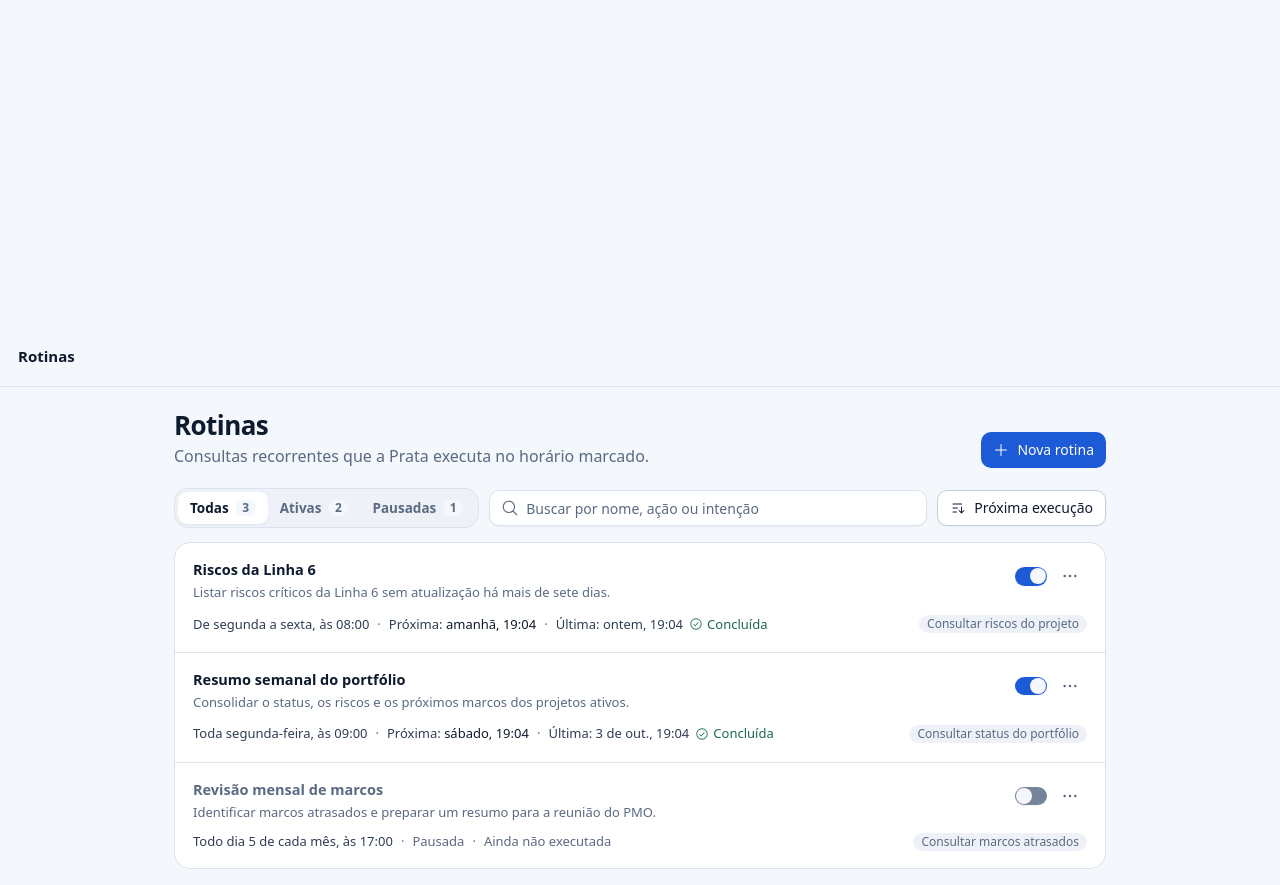
Scenario: Página de rotinas › valida e cria uma rotina
(page scrolled)
Expected: the heading "Riscos da Linha 6" is shown, [193,559,316,579]
Click the button "Nova rotina": (1044, 450) [981,432,1106,468]
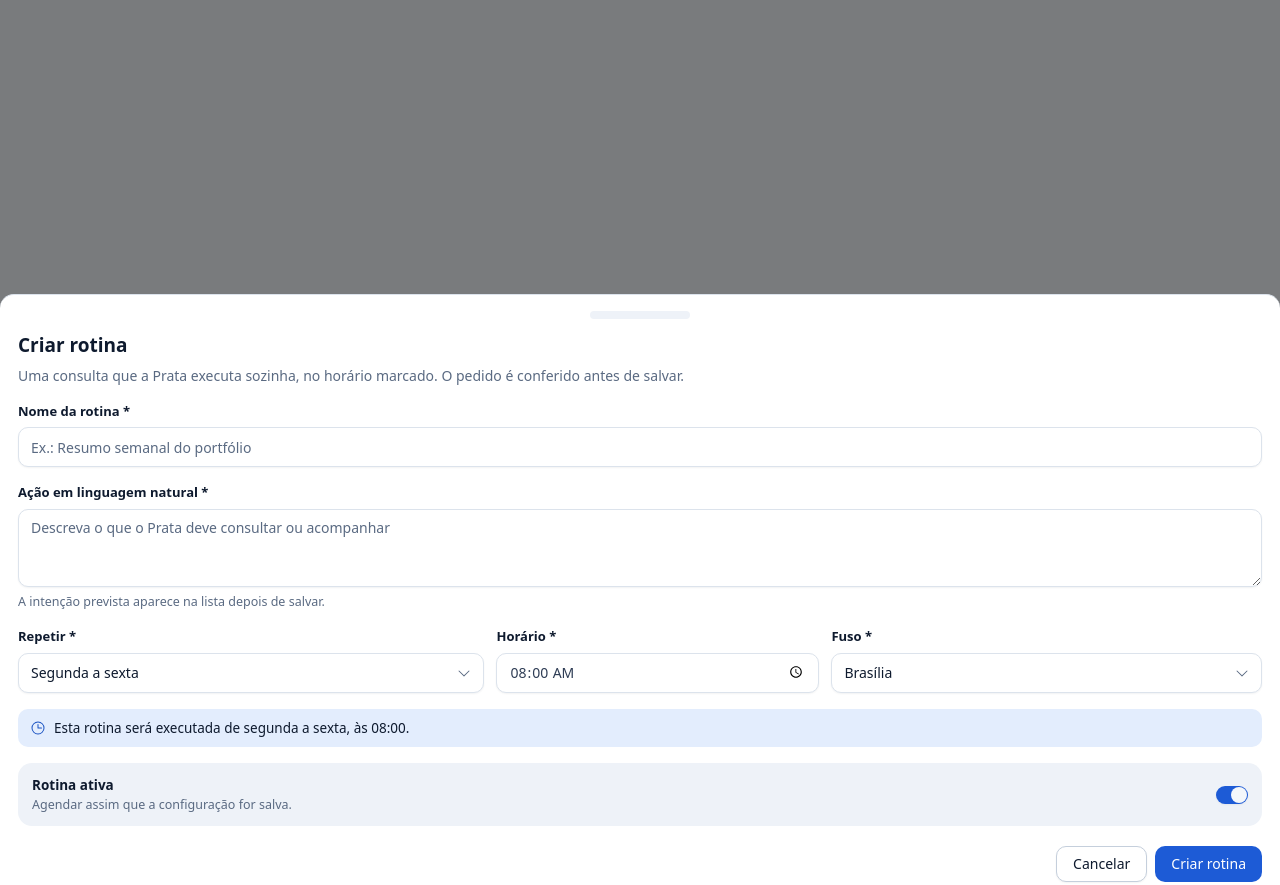
Expected: the dropdown labelled "Repetir *" shows "Segunda a sexta", [18,652,484,692]
Expected: the time field labelled "Horário *" holds "08:00", [496,652,819,692]
Expected: the dropdown labelled "Fuso *" shows "Brasília", [831,652,1262,692]
Click the button "Criar rotina": (1209, 864) [1155,846,1262,882]
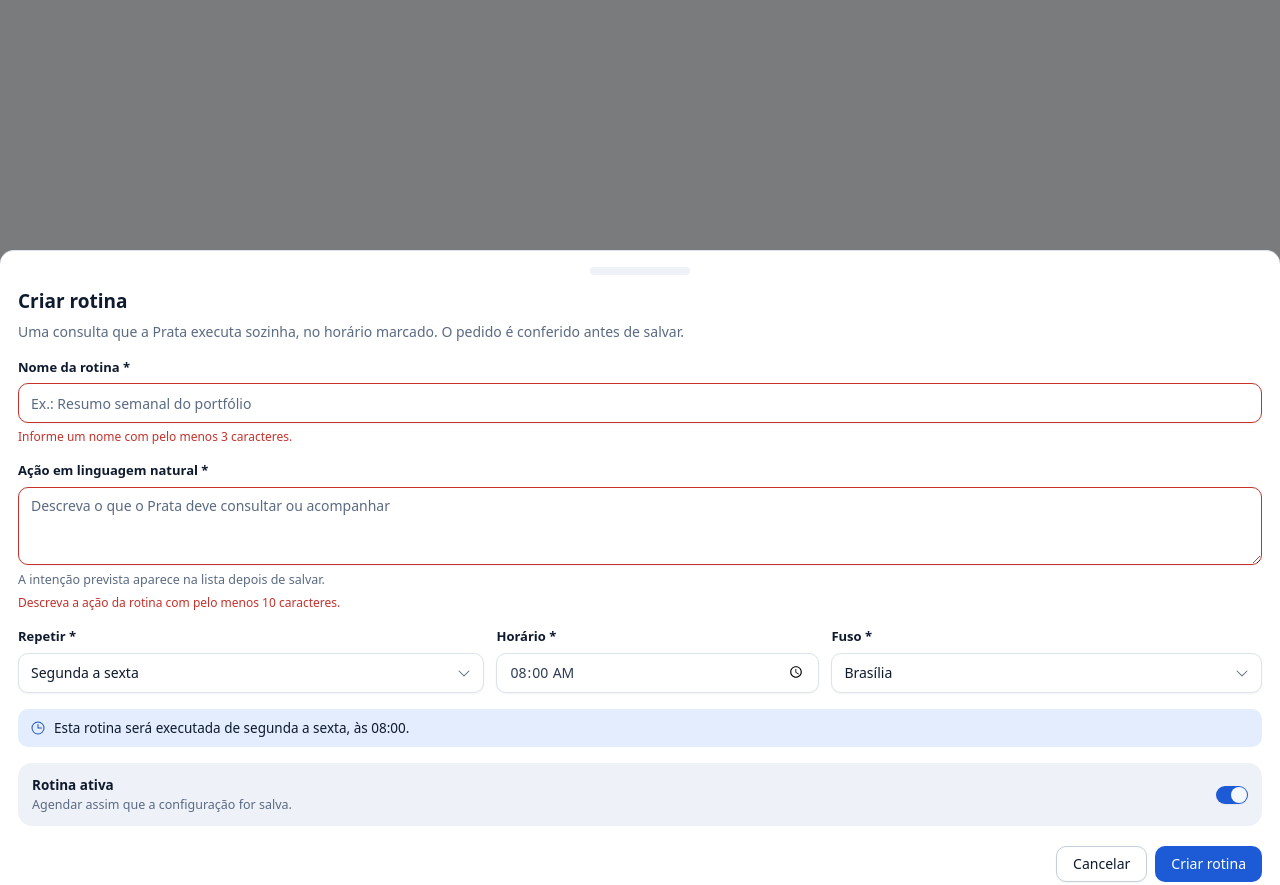
Expected: the text "Informe um nome com pelo menos 3 caracteres." is shown, [18,428,292,445]
In the field with placeholder "Ex.: Resumo semanal do portfólio": (640, 403) [18,383,1262,423], type "Pendências diárias"
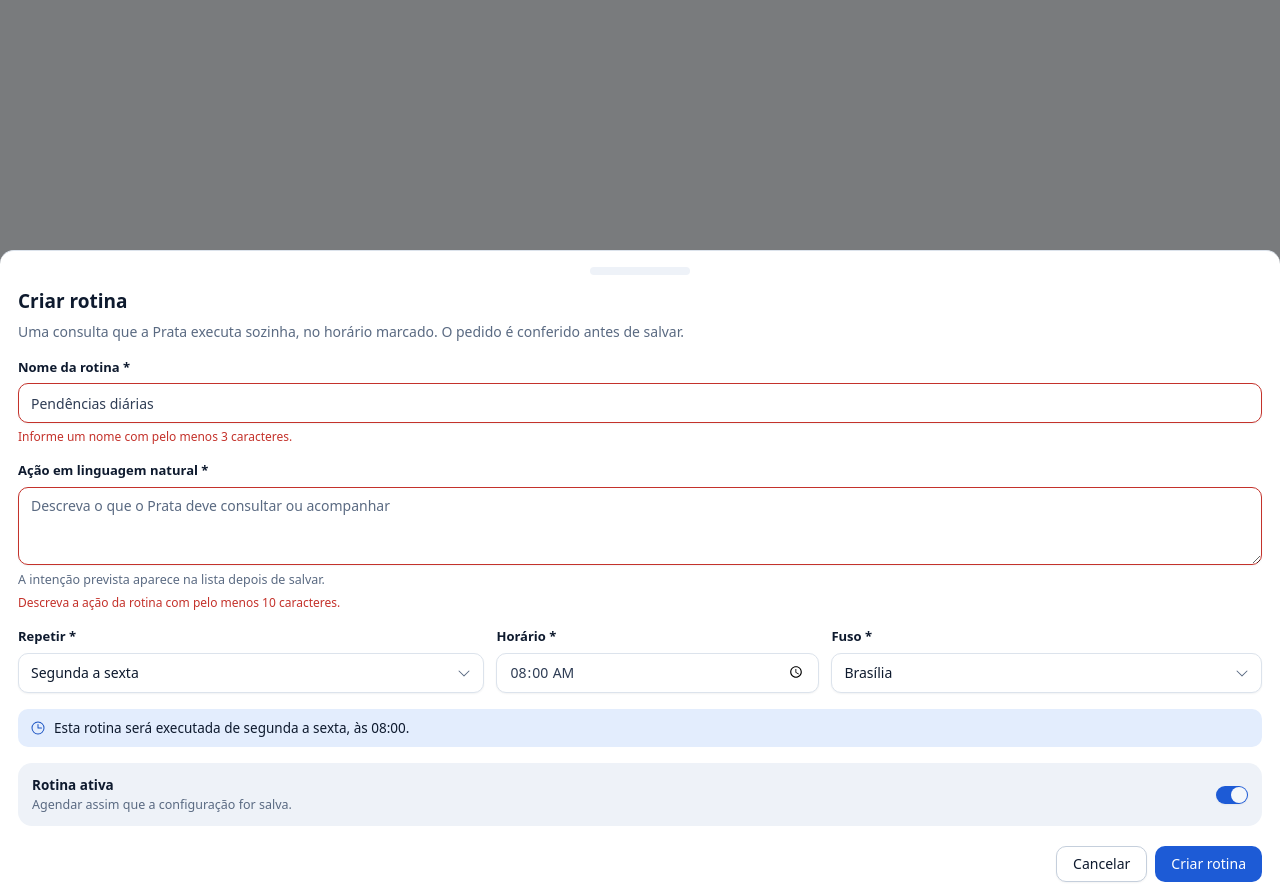
In the text box with placeholder "Descreva o que o Prata deve consultar ou acompanhar": (640, 525) [18,486,1262,564], type "Listar pendências críticas dos projetos ativos."
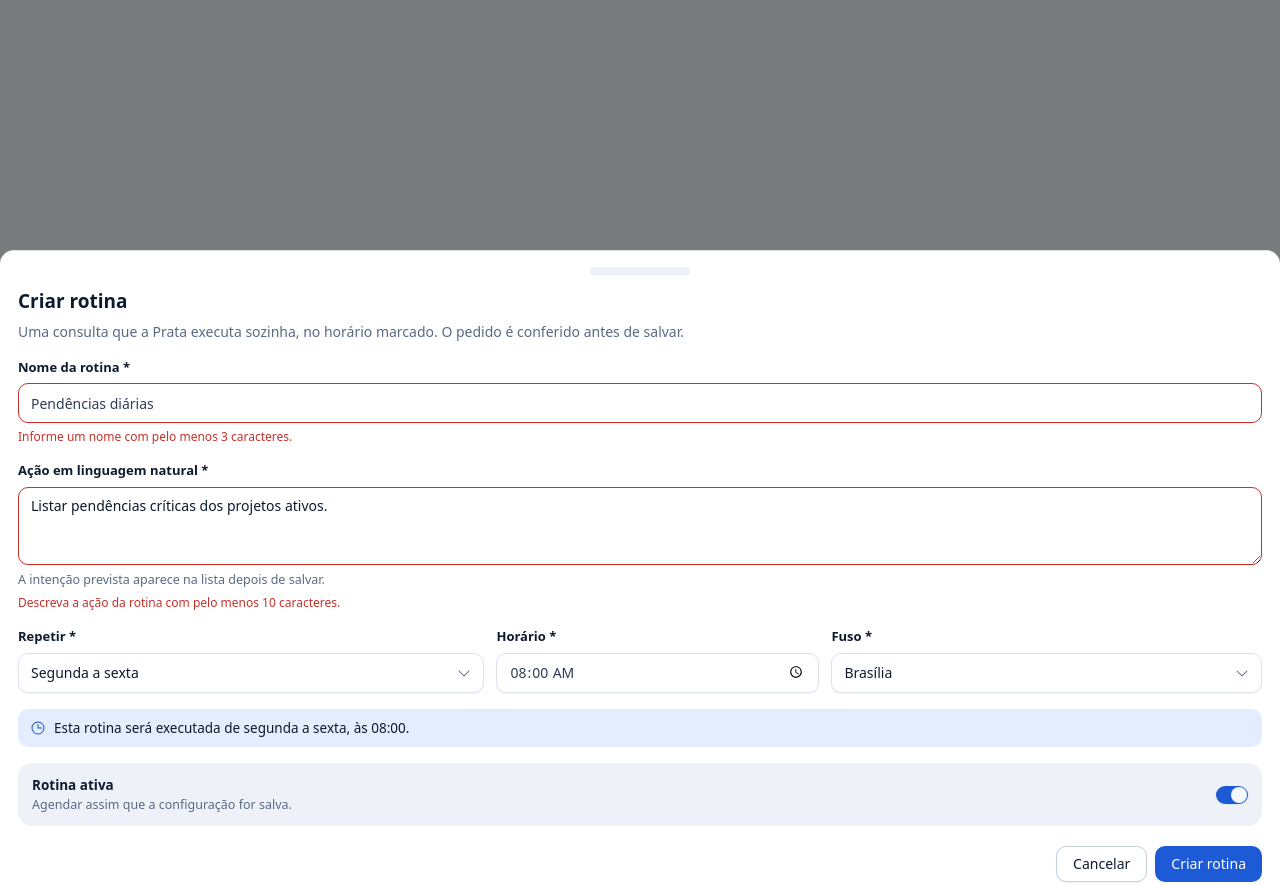
Click the button "Criar rotina": (1209, 864) [1155,846,1262,882]
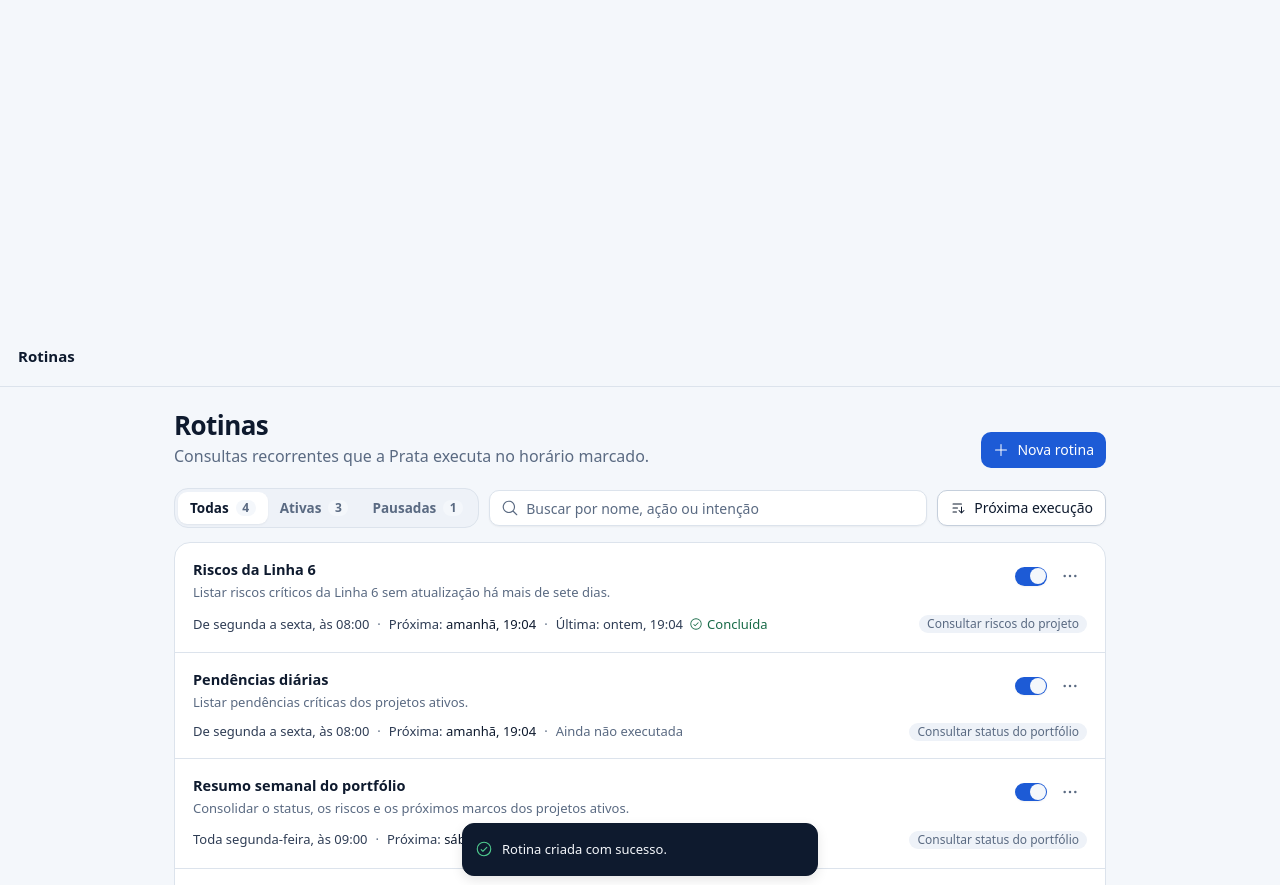
Expected: the text "Rotina criada com sucesso." is shown, [502,840,667,859]
Expected: the heading "Pendências diárias" is shown, [193,669,328,689]
